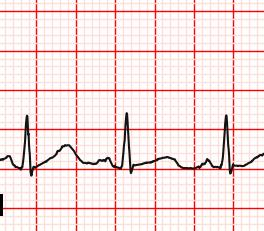LVH: (45, 142, 87, 169)
